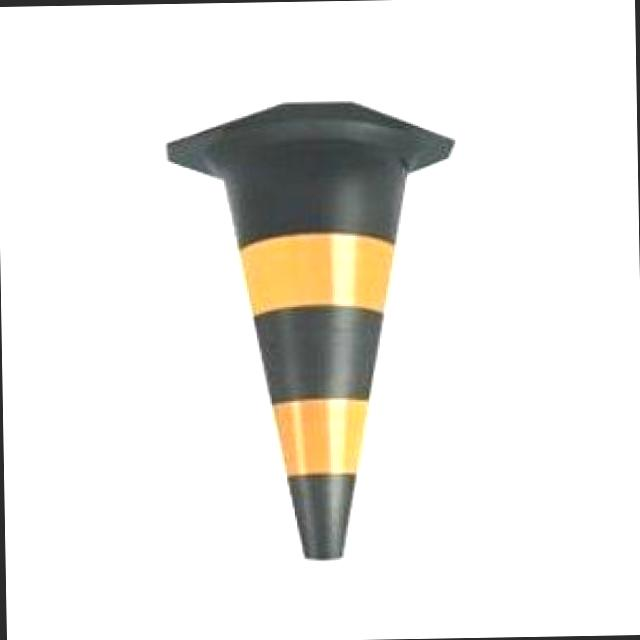cone: (167, 96, 457, 558)
